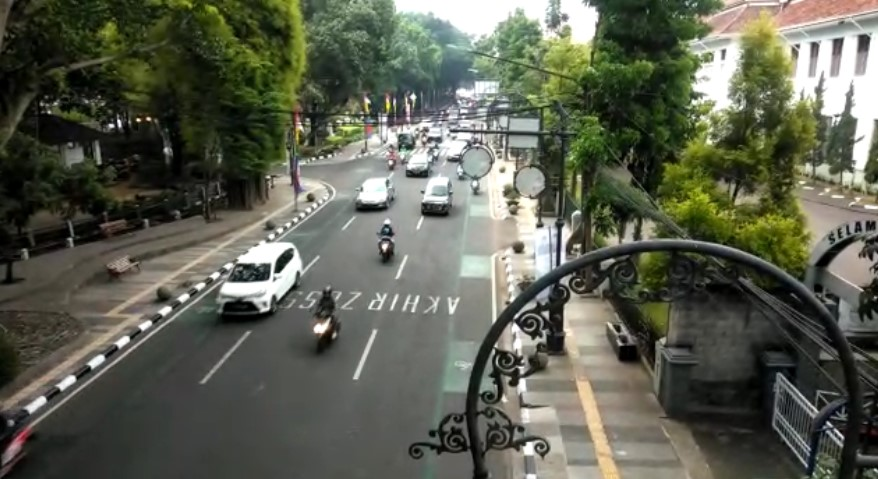mobil: (217, 240, 303, 319), (354, 176, 396, 213), (422, 178, 456, 218)
motor: (312, 285, 344, 350), (375, 222, 398, 261)
